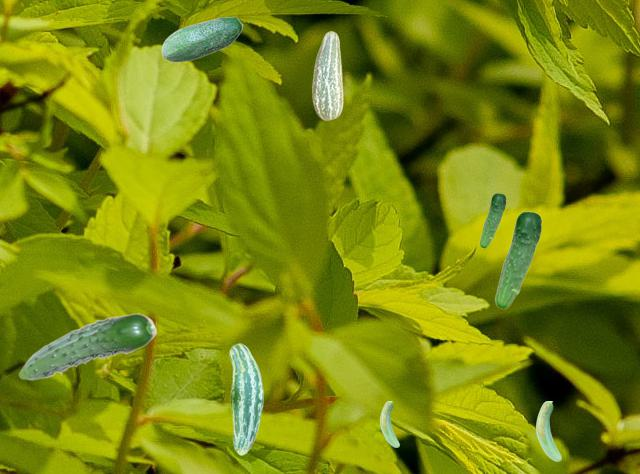cucumber: (18, 313, 156, 379), (494, 211, 541, 308), (229, 343, 262, 454), (161, 16, 242, 61), (312, 31, 342, 119), (536, 401, 560, 460), (479, 193, 505, 247), (380, 401, 398, 446)
